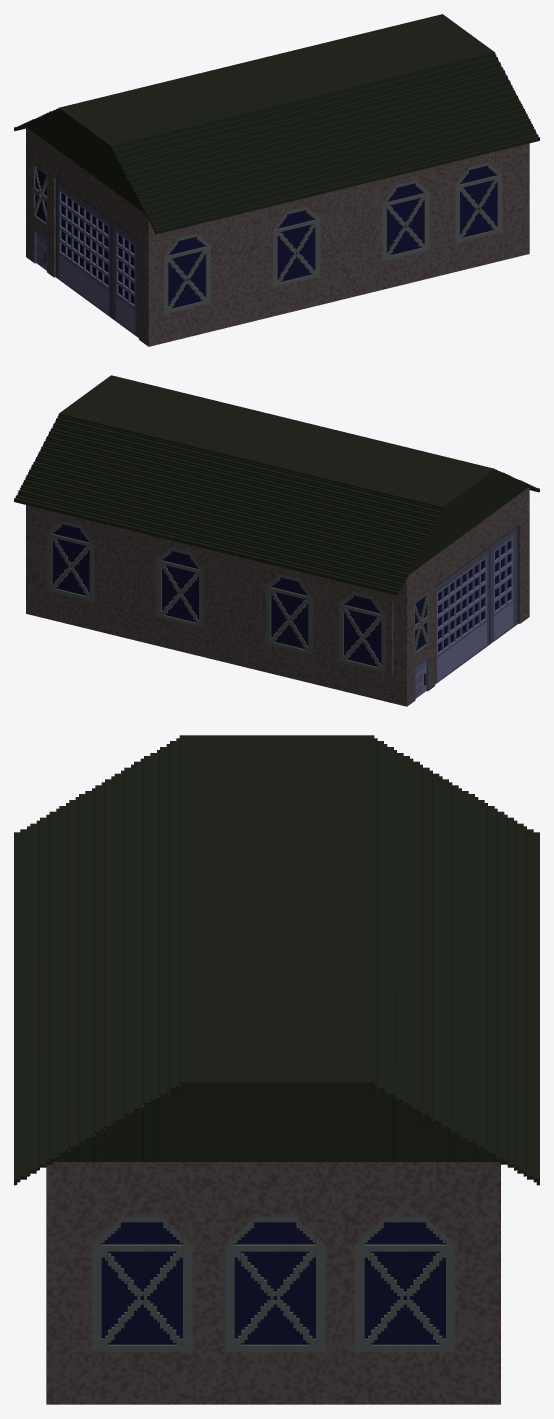
Rendered from hangar_magazyn.dae.
The picture shows the model from 3 angles, top to bottom: view 1: azimuth 30°, elevation 25°; view 2: azimuth 150°, elevation 25°; view 3: azimuth 270°, elevation 25°; orthographic projection. The views are drawn at different scales.
Visible parts, largest first — view 1: Content; view 2: Content; view 3: Content.
Part boxes in pixels (x1,y1,x2,y2): Content: (14, 14, 539, 346); Content: (14, 375, 539, 706); Content: (14, 735, 539, 1404).
Bounding box in the file's own units: 253 × 110 × 162.
Materials: 1 (1 with a texture image).
